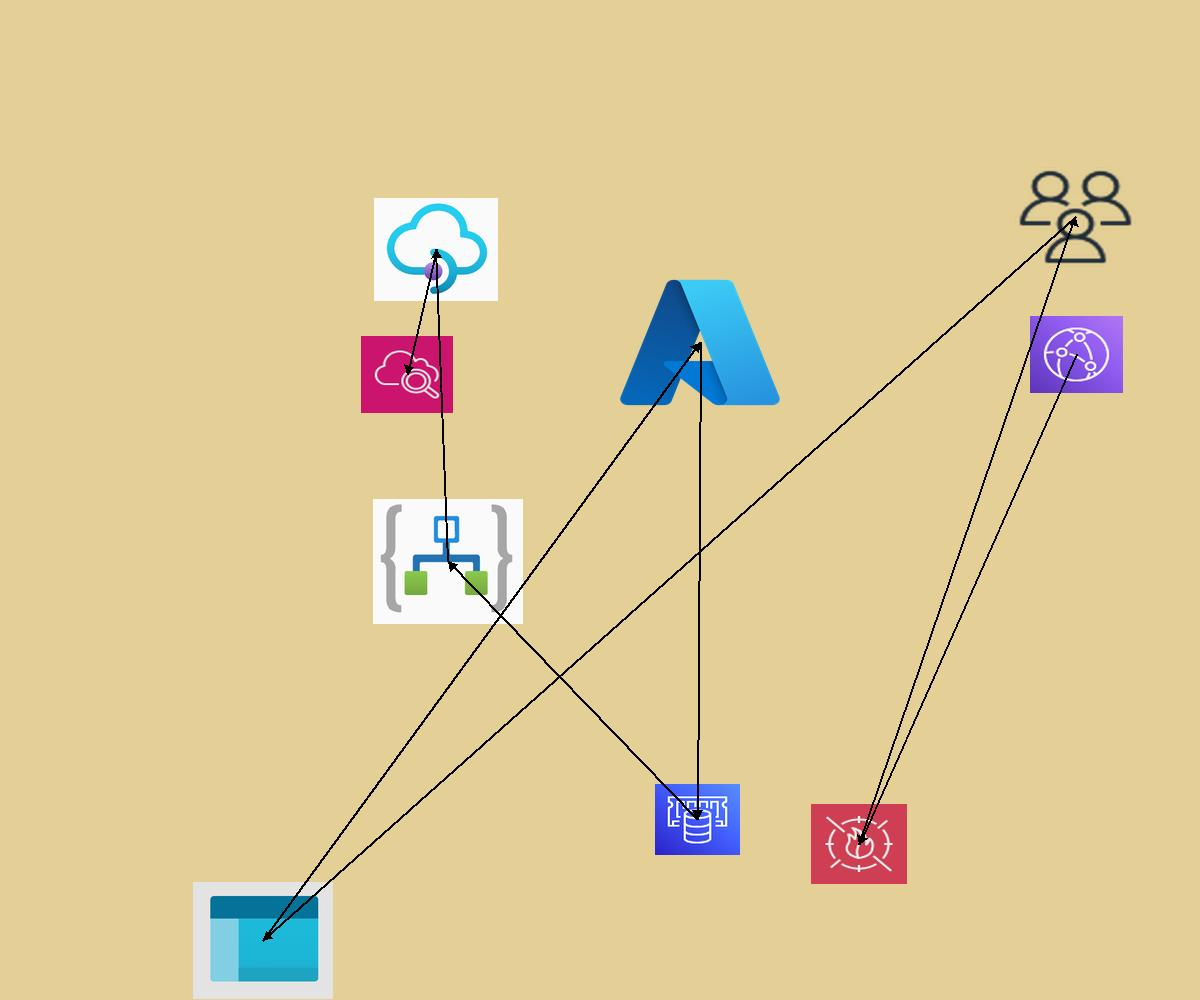AWS-CloudFront: (1030, 316, 1123, 393)
AWS-CloudWatch: (361, 336, 453, 413)
AWS-ElastiCache: (655, 784, 740, 855)
AWS-Res_Users: (1015, 167, 1136, 267)
AWS-WAF: (811, 804, 907, 884)
Azure_api_gateway: (374, 198, 498, 301)
Azure_integration-204-Logic-Apps: (373, 499, 523, 624)
Azure_management-portal: (193, 882, 333, 999)
Azure_services: (613, 270, 787, 415)
